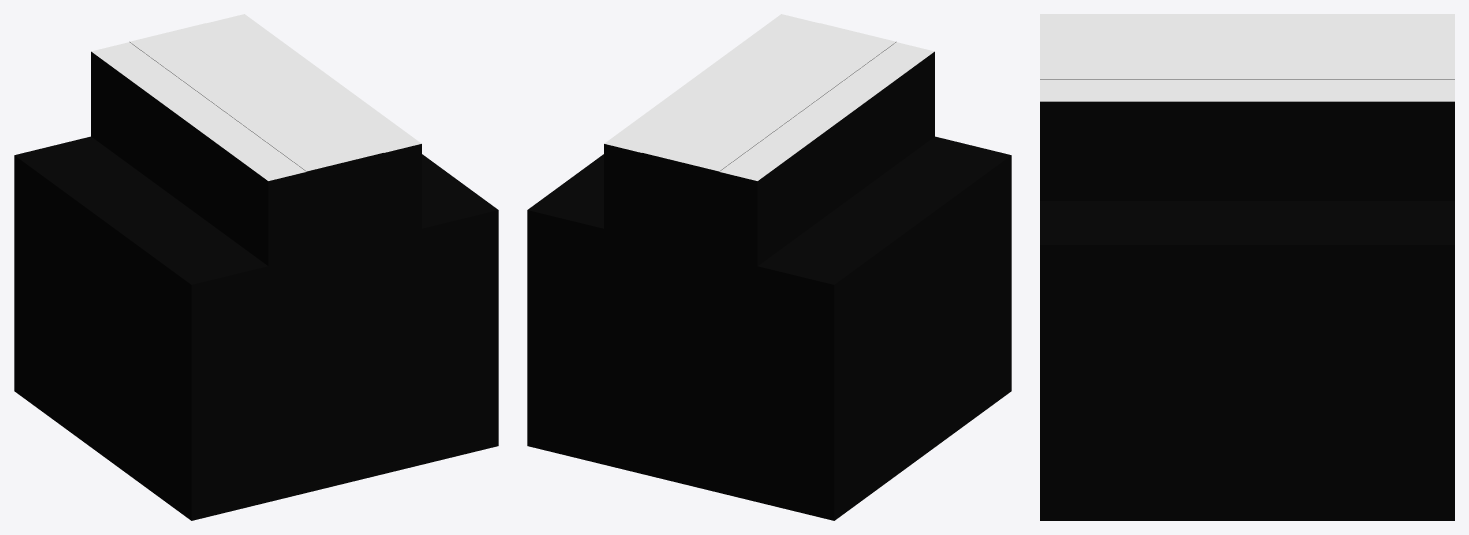
File: straight_path.glb
The picture shows the model from 3 angles, left to right: view 1: azimuth 30°, elevation 25°; view 2: azimuth 150°, elevation 25°; view 3: azimuth 270°, elevation 25°; orthographic projection. The views are drawn at different scales.
Parts seen in each view (by area): view 1: Cube.001; view 2: Cube.001; view 3: Cube.001.
Part boxes in pixels (left/top/right/bottom): Cube.001: left=14, top=14, right=498, bottom=520; Cube.001: left=527, top=14, right=1011, bottom=520; Cube.001: left=1040, top=14, right=1454, bottom=520.
Bounding box in the file's own units: 2 × 2 × 2.
1 material, 1 textured.
